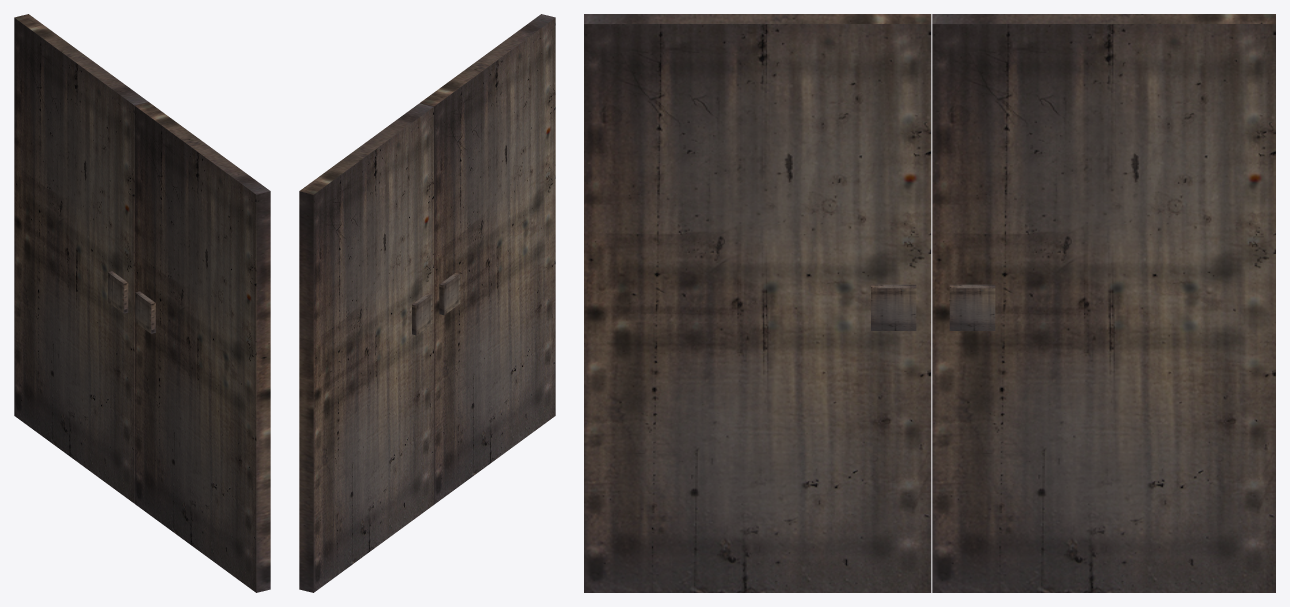
Rendered from door_double_rusty_broken.dae.
The picture shows the model from 3 angles, left to right: view 1: azimuth 30°, elevation 25°; view 2: azimuth 150°, elevation 25°; view 3: azimuth 270°, elevation 25°; orthographic projection. The views are drawn at different scales.
Parts seen in each view (by area): view 1: door01, door02; view 2: door02, door01; view 3: door01, door02.
Boxes of the visible parts, bbox=[...] form: door01: bbox=[135, 102, 270, 592]; door02: bbox=[14, 14, 148, 503]; door02: bbox=[299, 103, 433, 592]; door01: bbox=[420, 14, 555, 504]; door01: bbox=[584, 14, 931, 592]; door02: bbox=[932, 14, 1275, 592].
Size of what is drawn, in the model's own units: 0.1334 by 1.96 by 2.16.
